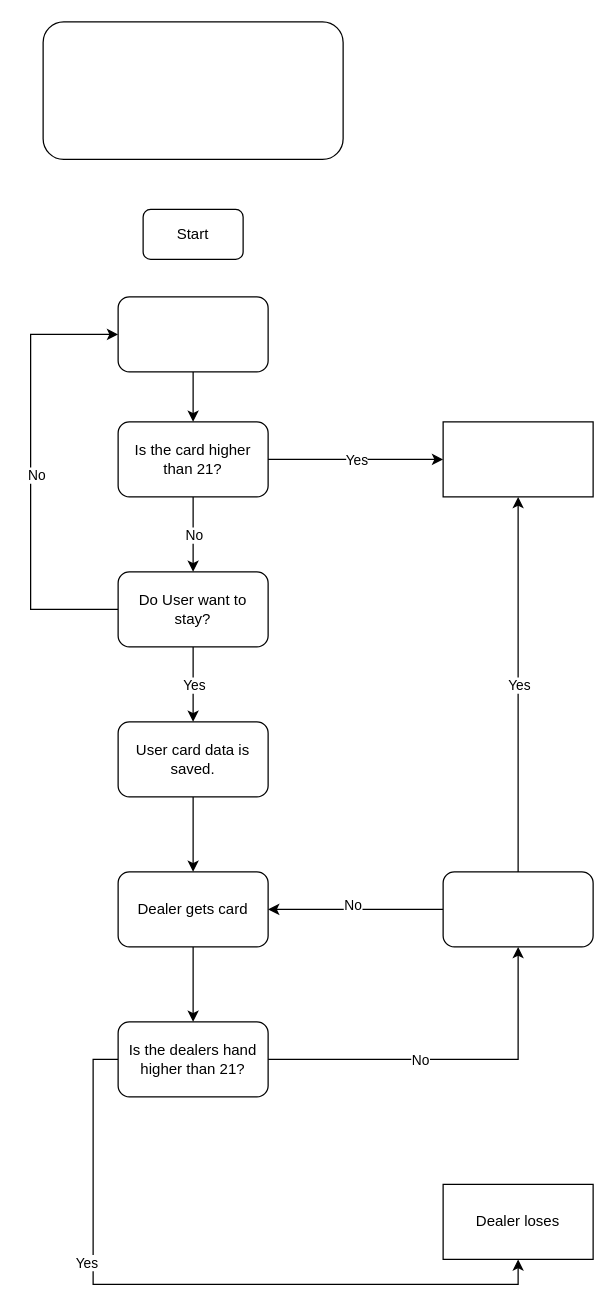
Image size: 615x1316. Some labels were removed from this diagram. The centre of each missing label's shape, as x and y in pixels:
"BlackJack Flow Chart" belongs at [192,90].
"Is the Dealers hand higher than Users hand?" belongs at [517,909].
"User gets card from Dealer" belongs at [192,334].
"User Loses" belongs at [517,459].
